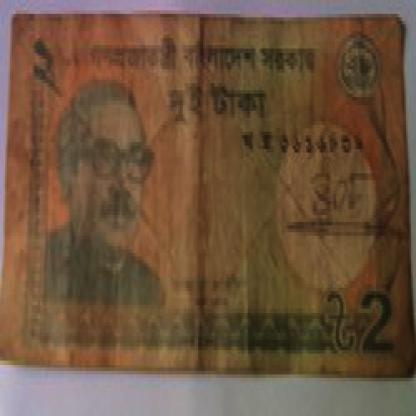two taka: (358, 284, 402, 368), (25, 31, 55, 104)
